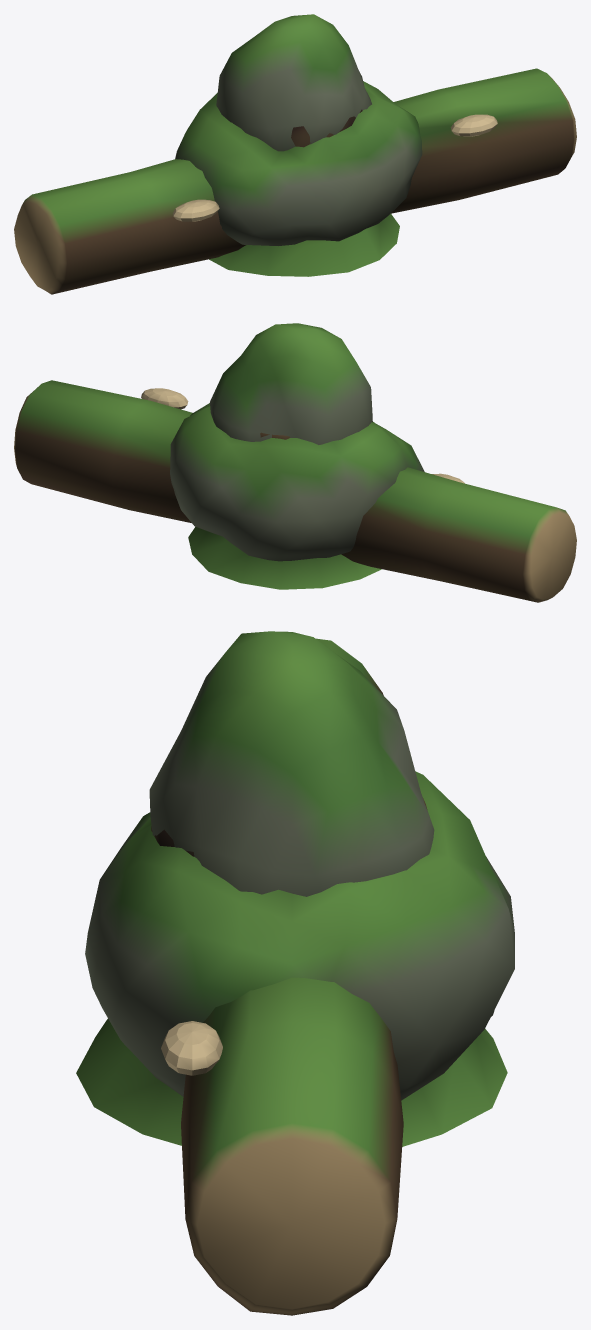
The model's file is rocas-pantano-juego.glb.
3 renders of one model, top to bottom at view 1: azimuth 30°, elevation 25°; view 2: azimuth 150°, elevation 25°; view 3: azimuth 270°, elevation 25°, orthographic. The views are drawn at different scales.
Parts seen in each view (by area): view 1: Tronco caído, Roca A, Roca B, Tocón; view 2: Tronco caído, Roca A, Roca B, Tocón; view 3: Roca A, Tronco caído, Roca B, Tocón.
Boxes of the visible parts, <box> form: Tronco caído: <box>14,68,576,294</box>; Roca A: <box>175,81,422,245</box>; Roca B: <box>216,14,371,151</box>; Tocón: <box>209,109,399,276</box>; Tronco caído: <box>14,380,576,602</box>; Roca A: <box>170,403,424,561</box>; Roca B: <box>210,323,372,444</box>; Tocón: <box>188,432,381,589</box>; Roca A: <box>85,771,514,1100</box>; Tronco caído: <box>161,638,403,1315</box>; Roca B: <box>149,631,434,896</box>; Tocón: <box>76,798,507,1146</box>.
Size of the model in its own units: 5.02 by 2 by 1.84.
